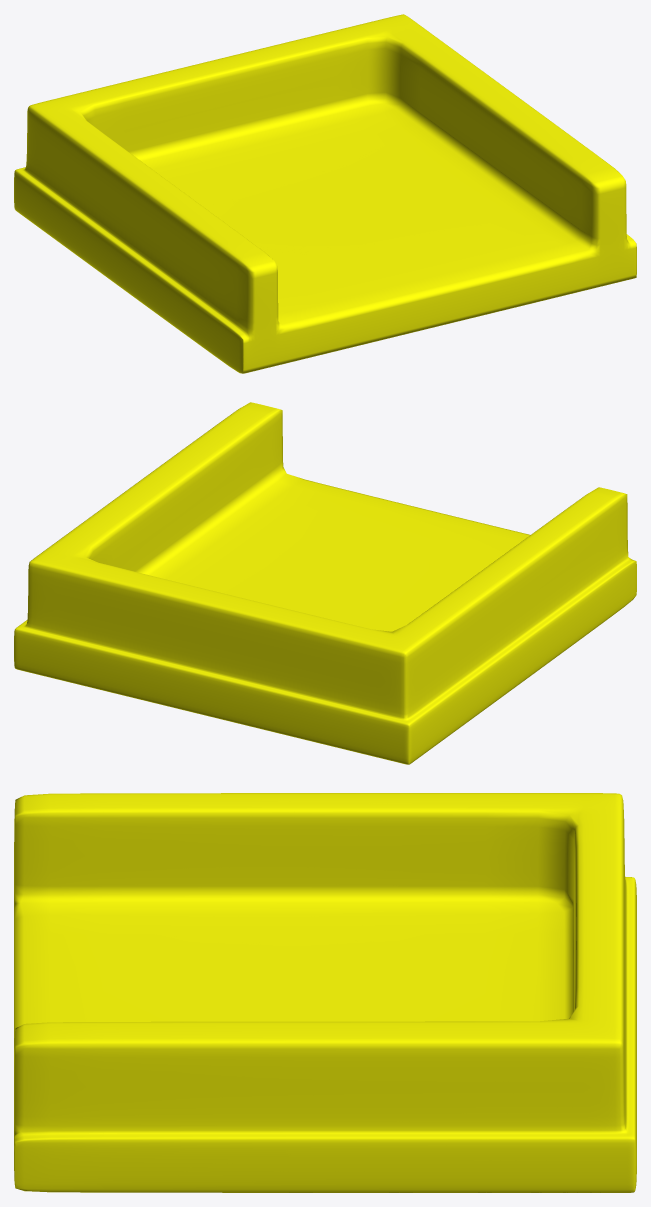
The picture shows the model from 3 angles, top to bottom: view 1: azimuth 30°, elevation 25°; view 2: azimuth 150°, elevation 25°; view 3: azimuth 270°, elevation 25°; orthographic projection. The views are drawn at different scales.
Visible parts, largest first — view 1: pasted__pCube290; view 2: pasted__pCube290; view 3: pasted__pCube290.
Part boxes in pixels (x1=…): pasted__pCube290: x1=14, y1=14, x2=636, y2=373; pasted__pCube290: x1=14, y1=402, x2=636, y2=764; pasted__pCube290: x1=14, y1=793, x2=636, y2=1192.
Bounding box in the file's own units: 0.9997 × 0.2597 × 0.9998.
